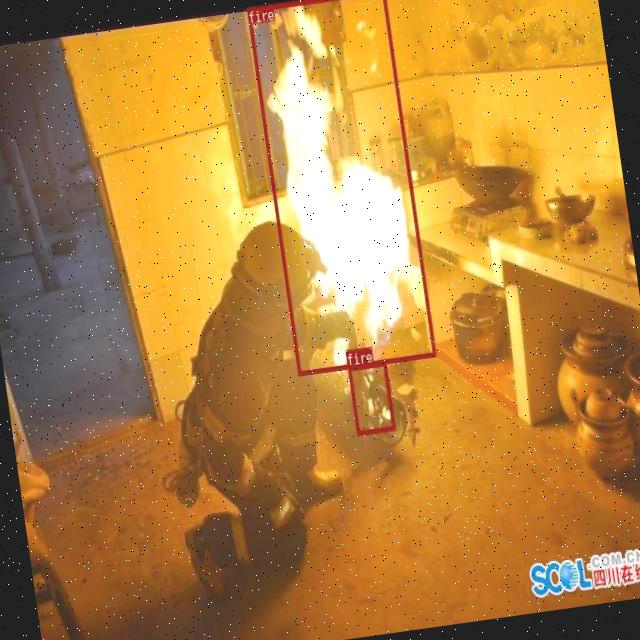fire: (247, 0, 436, 375), (348, 360, 394, 435)
